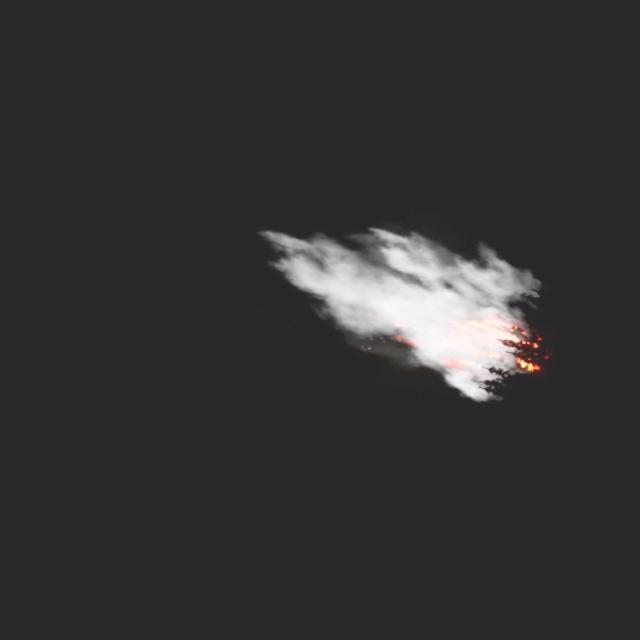fire: (396, 285, 561, 393)
smoke: (233, 180, 551, 409)
